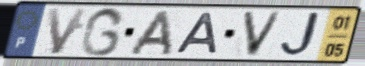A: (126, 9, 174, 57), (173, 11, 220, 56)
G: (78, 6, 127, 58)
J: (277, 11, 327, 60)
V: (46, 6, 91, 56), (240, 10, 285, 59)
